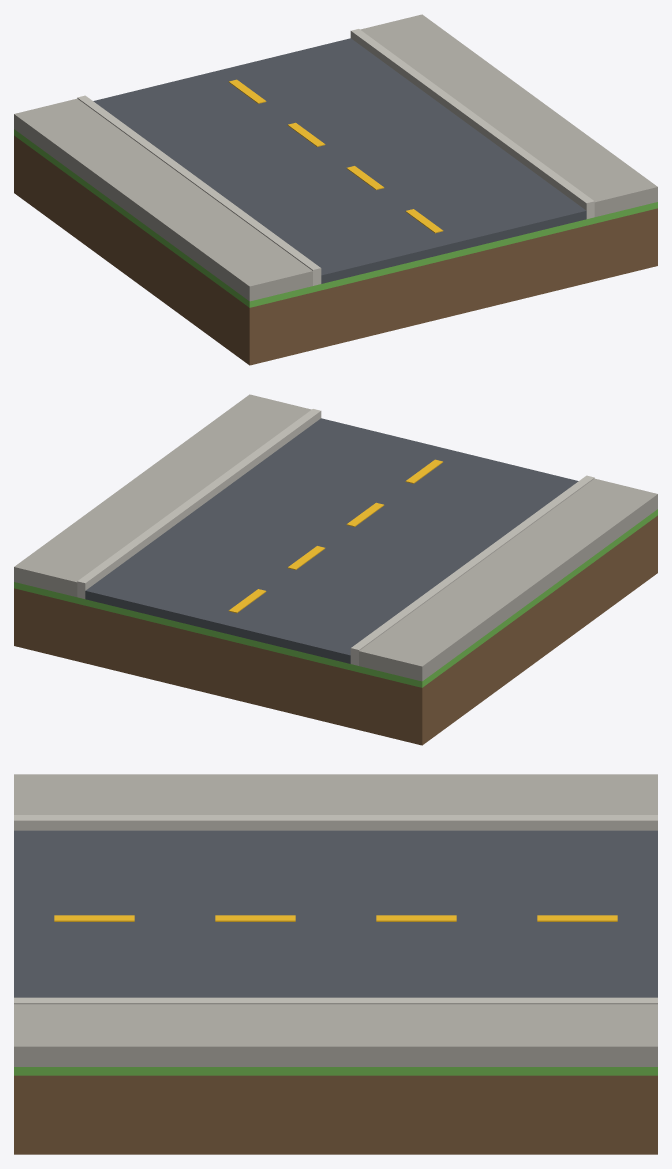
Rendered from asfalto_reta.glb.
3 renders of one model, top to bottom at view 1: azimuth 30°, elevation 25°; view 2: azimuth 150°, elevation 25°; view 3: azimuth 270°, elevation 25°, orthographic. The views are drawn at different scales.
Parts seen in each view (by area): view 1: corpo; view 2: corpo; view 3: corpo.
Boxes of the visible parts, x1=… form: corpo: x1=14, y1=14, x2=657, y2=365; corpo: x1=14, y1=394, x2=657, y2=745; corpo: x1=14, y1=774, x2=657, y2=1154.
Size of the model in its own units: 2 by 0.375 by 2.
